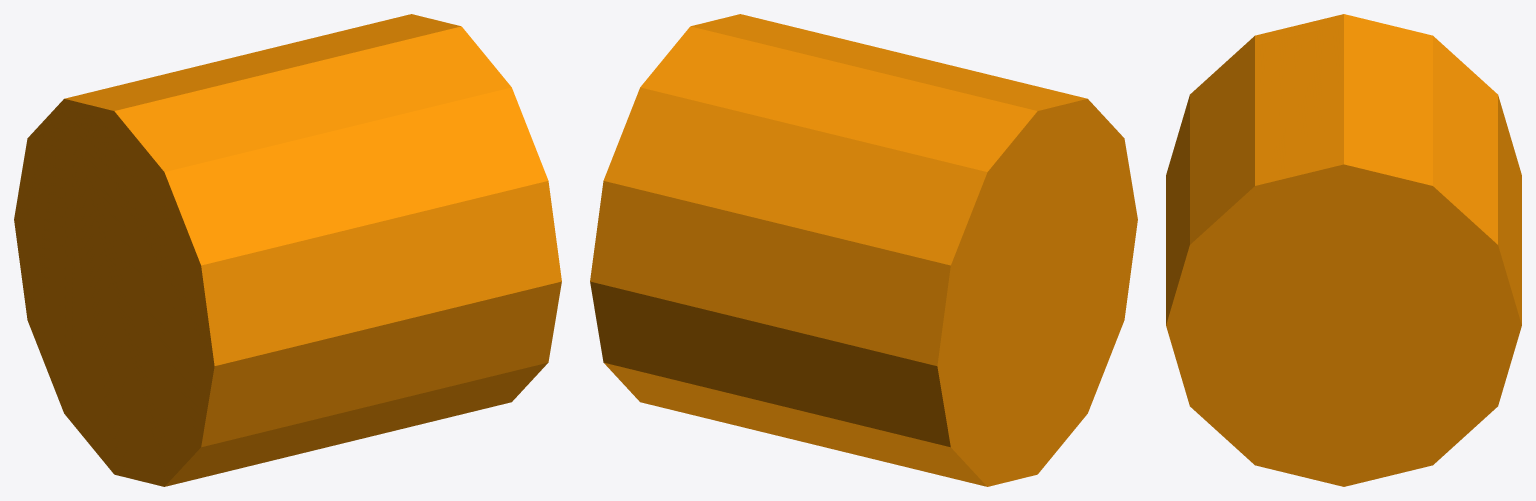
Rendered from Rocket Launcher - Propulsion.obj.
3 renders of one model, left to right at view 1: azimuth 30°, elevation 25°; view 2: azimuth 150°, elevation 25°; view 3: azimuth 270°, elevation 25°, orthographic. The views are drawn at different scales.
Parts seen in each view (by area): view 1: group694277133; view 2: group694277133; view 3: group694277133.
Boxes of the visible parts, x1=… form: group694277133: x1=14, y1=14, x2=561, y2=486; group694277133: x1=590, y1=14, x2=1137, y2=486; group694277133: x1=1166, y1=14, x2=1521, y2=486.
Bounding box in the file's own units: 0.02 × 0.02 × 0.02.
